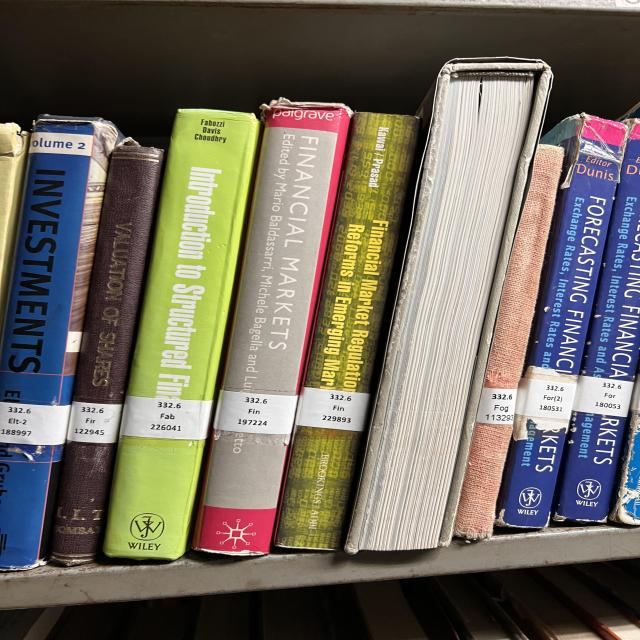Book: (345, 58, 553, 554), (193, 100, 352, 555), (103, 109, 260, 560), (275, 112, 418, 550), (0, 115, 123, 570), (497, 115, 627, 528), (50, 145, 163, 566), (453, 145, 563, 539), (553, 119, 640, 522)
Label: (120, 396, 212, 440), (213, 390, 298, 435), (295, 388, 370, 431), (0, 402, 70, 445), (515, 378, 577, 420), (573, 375, 633, 418), (67, 401, 122, 444), (477, 388, 517, 425)
